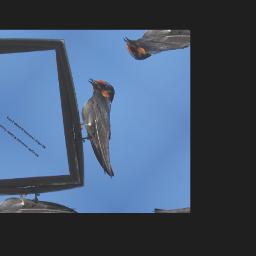Swallow: (49, 72, 159, 179)
